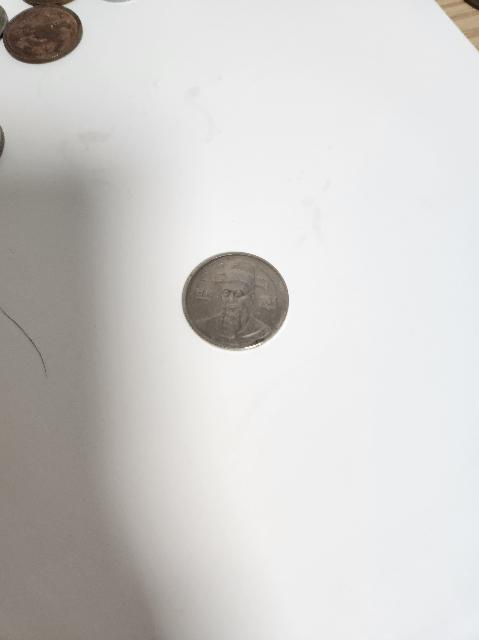coin: (183, 246, 291, 350), (8, 4, 82, 64)
